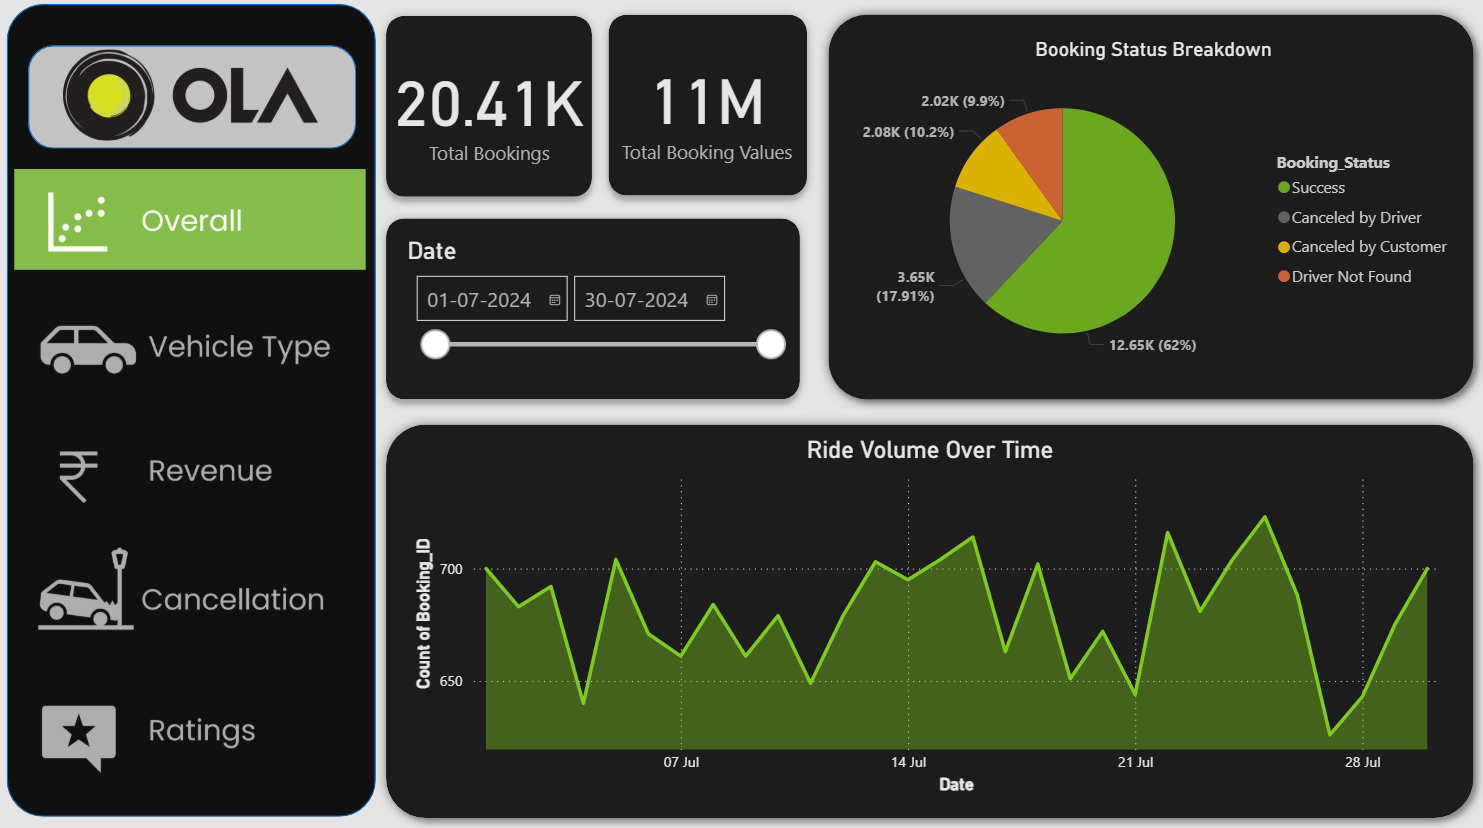

Layout of this report page (visuals, bound fields, positions):
{"tool":"powerbi","page":{"name":"Overall","canvas":[1280,720],"ordinal":0},"visuals":[{"type":"shape","box":[7.5,12.5,315,693.8],"z":0},{"type":"shape","box":[322.5,362.5,946.2,353.8],"z":1000},{"type":"areaChart","title":"Ride Volume Over Time","fields":{"Y":["CountNonNull(July.Booking_ID)"],"Category":["July.Date"]},"box":[350,381.2,891.2,311.2],"z":2000},{"type":"shape","box":[700,12.8,568.6,346.5],"z":3000},{"type":"pieChart","title":" Booking Status Breakdown","fields":{"Category":["July.Booking_Status"],"Y":["CountNonNull(July.Booking_Status)"]},"box":[721.2,41.2,530,293.8],"z":4000},{"type":"shape","box":[322.5,186.2,371.2,172.5],"z":5000},{"type":"shape","box":[322.5,13.8,193.8,172.5],"z":6000},{"type":"shape","box":[512.5,12.5,187.5,172.5],"z":7000},{"type":"slicer","title":"Date","fields":{"Values":["July.Date"]},"box":[344.2,211.6,336,125.6],"z":8000},{"type":"card","fields":{"Values":["Count(July.Booking_ID)"]},"box":[332.6,33.7,173.3,134.9],"z":9000},{"type":"card","fields":{"Values":["Sum(July.Booking_Value)"]},"box":[523.3,30.2,165.1,140.7],"z":10000},{"type":"shape","box":[25.6,47.9,280.2,88.4],"z":11000,"group":"g1"},{"type":"group","id":"g1","title":"Group 1","box":[14,46.7,300,89.5],"z":11000},{"type":"image","box":[14,46.7,300,87.2],"z":12000,"group":"g1"},{"type":"shape","box":[14,153.5,300,86],"z":12000},{"type":"image","box":[15.1,159.3,300,530.2],"z":13000},{"type":"actionButton","box":[25.6,168.6,280.2,62.8],"z":14000},{"type":"actionButton","box":[25.6,272.1,280.2,62.8],"z":15000},{"type":"actionButton","box":[25.6,381.4,280.2,62.8],"z":16000},{"type":"actionButton","box":[25.6,488.4,280.2,67.4],"z":17000},{"type":"actionButton","box":[25.6,609.3,280.2,62.8],"z":18000}]}

Visuals, with their boxes in screenshot pixels (x1, y1, x2, y2), scaled from the page's 1280x720 canvas onto the 1483x828 screenshot:
shape: box=[9, 14, 374, 812]
shape: box=[374, 417, 1470, 824]
"Ride Volume Over Time" areaChart: box=[406, 438, 1438, 796]
shape: box=[811, 15, 1470, 413]
" Booking Status Breakdown" pieChart: box=[836, 47, 1450, 385]
shape: box=[374, 214, 804, 413]
shape: box=[374, 16, 598, 214]
shape: box=[594, 14, 811, 213]
"Date" slicer: box=[399, 243, 788, 388]
card - Count(July.Booking_ID): box=[385, 39, 586, 194]
card - Sum(July.Booking_Value): box=[606, 35, 798, 197]
shape: box=[30, 55, 354, 157]
"Group 1" group: box=[16, 54, 364, 157]
image: box=[16, 54, 364, 154]
shape: box=[16, 177, 364, 275]
image: box=[17, 183, 365, 793]
actionButton: box=[30, 194, 354, 266]
actionButton: box=[30, 313, 354, 385]
actionButton: box=[30, 439, 354, 511]
actionButton: box=[30, 562, 354, 639]
actionButton: box=[30, 701, 354, 773]
